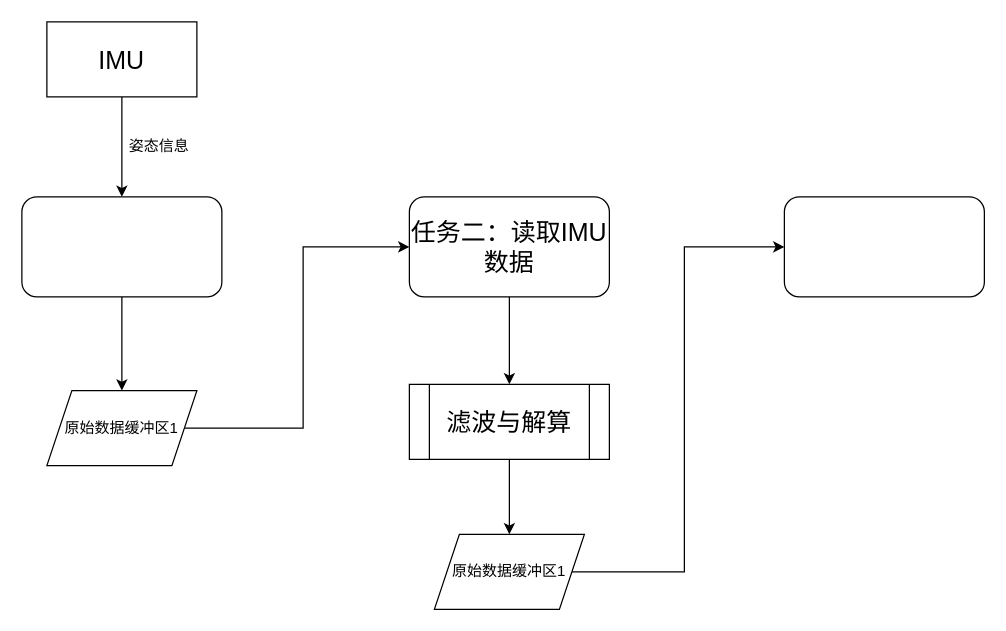
Image size: 1006x631. Some labels were removed from this diagram. The shapes that lost their labels are listed below. From the top down, each one's box as (x1, y1, x2, y2) in pixels, then its label:
(21, 196, 222, 297): 任务一：读取IMU数据
(783, 196, 984, 297): 任务三：向串口发送信息
